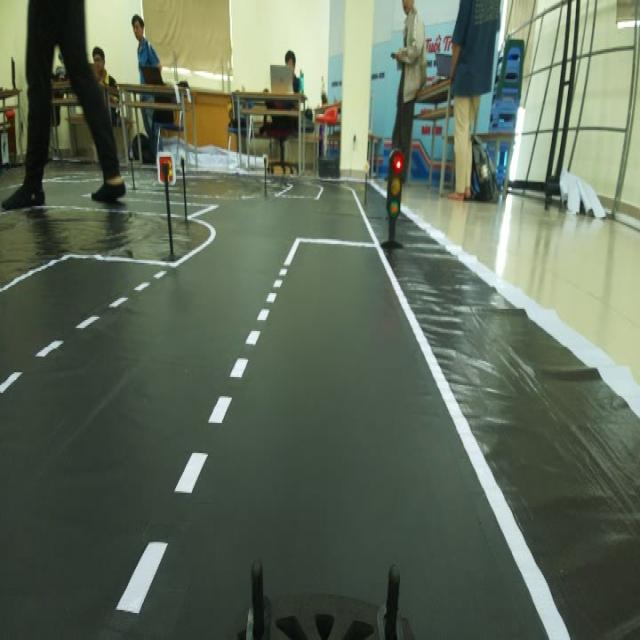trafficlight: (374, 137, 414, 264)
